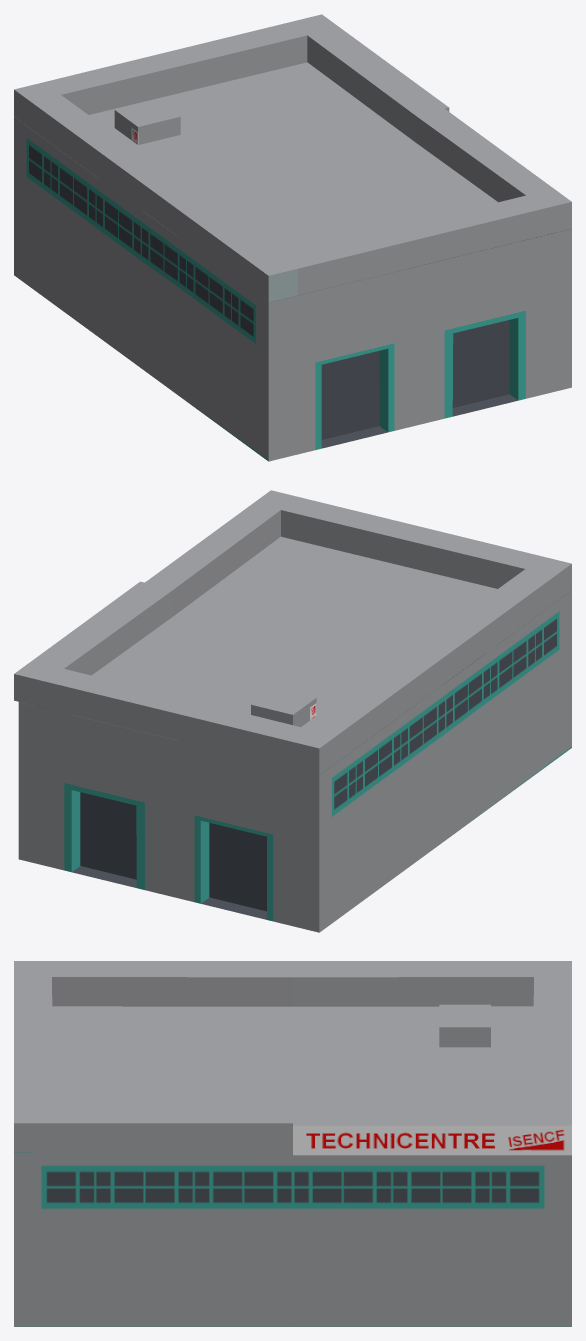
The model's file is technicentre.glb.
The picture shows the model from 3 angles, top to bottom: view 1: azimuth 30°, elevation 25°; view 2: azimuth 150°, elevation 25°; view 3: azimuth 270°, elevation 25°; orthographic projection. The views are drawn at different scales.
Visible parts, largest first — view 1: Cube; view 2: Cube; view 3: Cube.
Part boxes in pixels (box(x1,y1,x2,y2)): Cube: box(14, 14, 571, 461); Cube: box(14, 490, 571, 932); Cube: box(14, 961, 571, 1326).
Size of the model in its own units: 10.15 by 5.85 by 14.54.
Materials: 1 (1 with a texture image).
